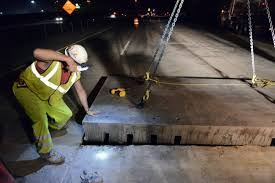safe person: (13, 27, 99, 165)
